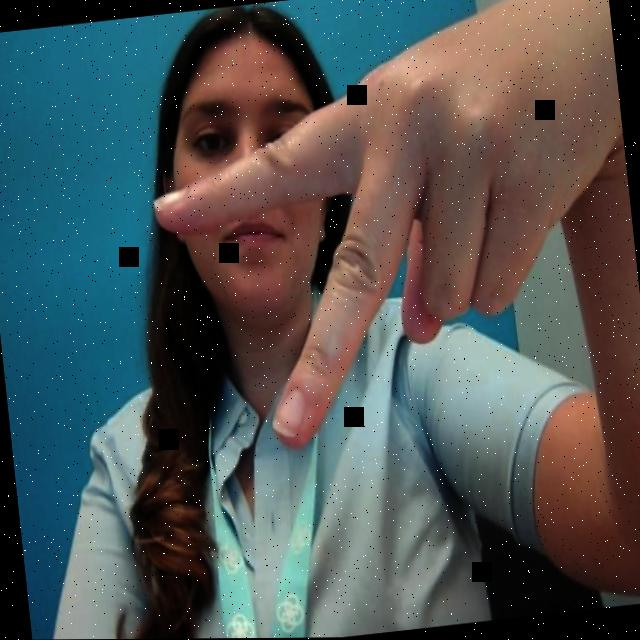Scissors: (130, 0, 640, 472)
